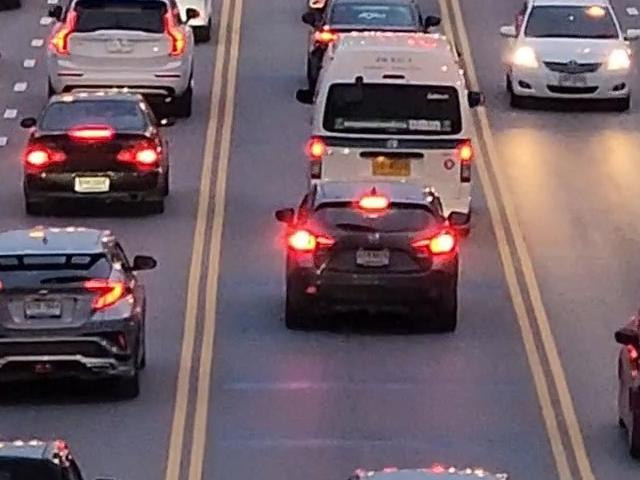car: (270, 172, 473, 332), (313, 42, 487, 228), (0, 224, 169, 401), (12, 93, 177, 222), (50, 0, 203, 118), (506, 0, 640, 115), (302, 0, 424, 101), (91, 0, 215, 38)
